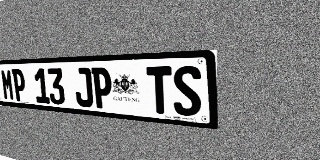1: (33, 68, 50, 104)
3: (47, 68, 65, 105)
J: (73, 68, 94, 108)
M: (0, 69, 15, 101)
P: (91, 67, 113, 109), (11, 69, 27, 102)
S: (172, 66, 202, 117)
T: (146, 66, 173, 115)
